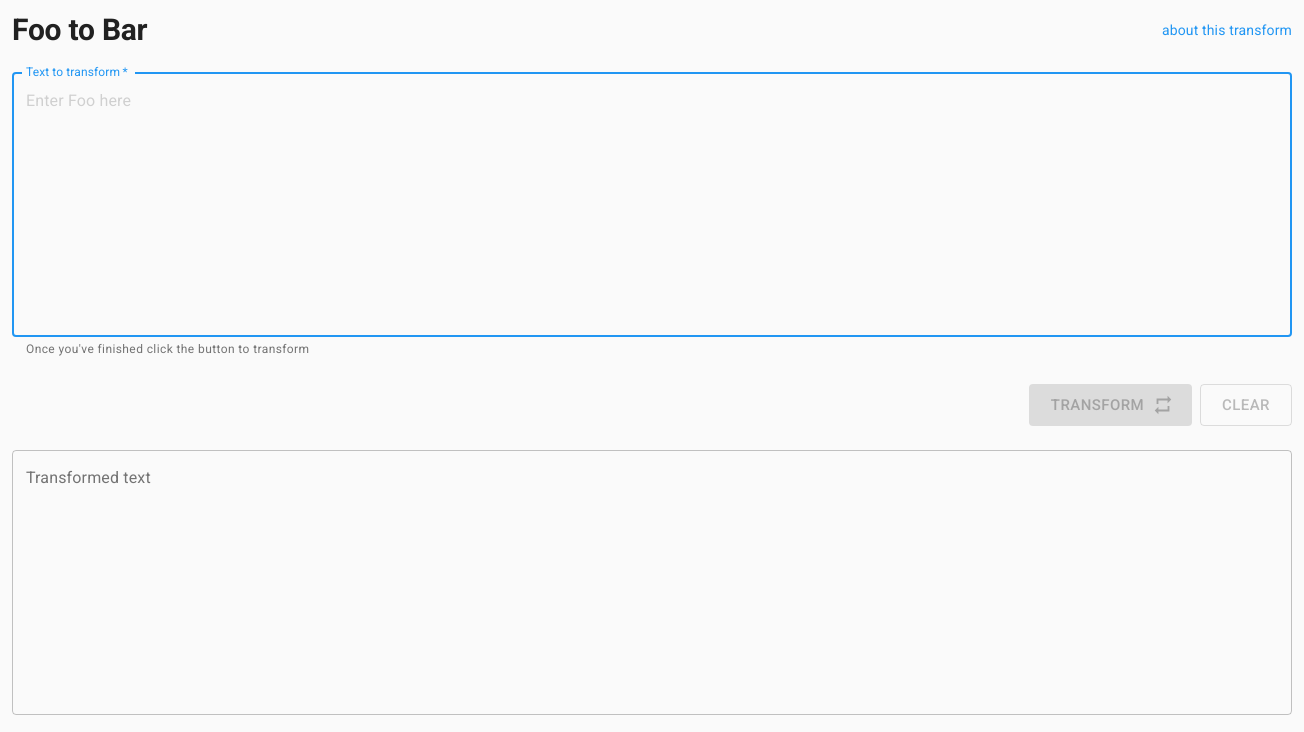
Scenario: Transform › after the user has entered text in the input box › when the transform will fail › when the transform button is clicked › after the transform fails with boom › when the clear button is clicked › resets the input box to empty
This screenshot has width=1304, height=732.
Type "stuff" into the text box labelled "Text to transform *" at (652, 204), box x1=26 y1=90 x2=1278 y2=318
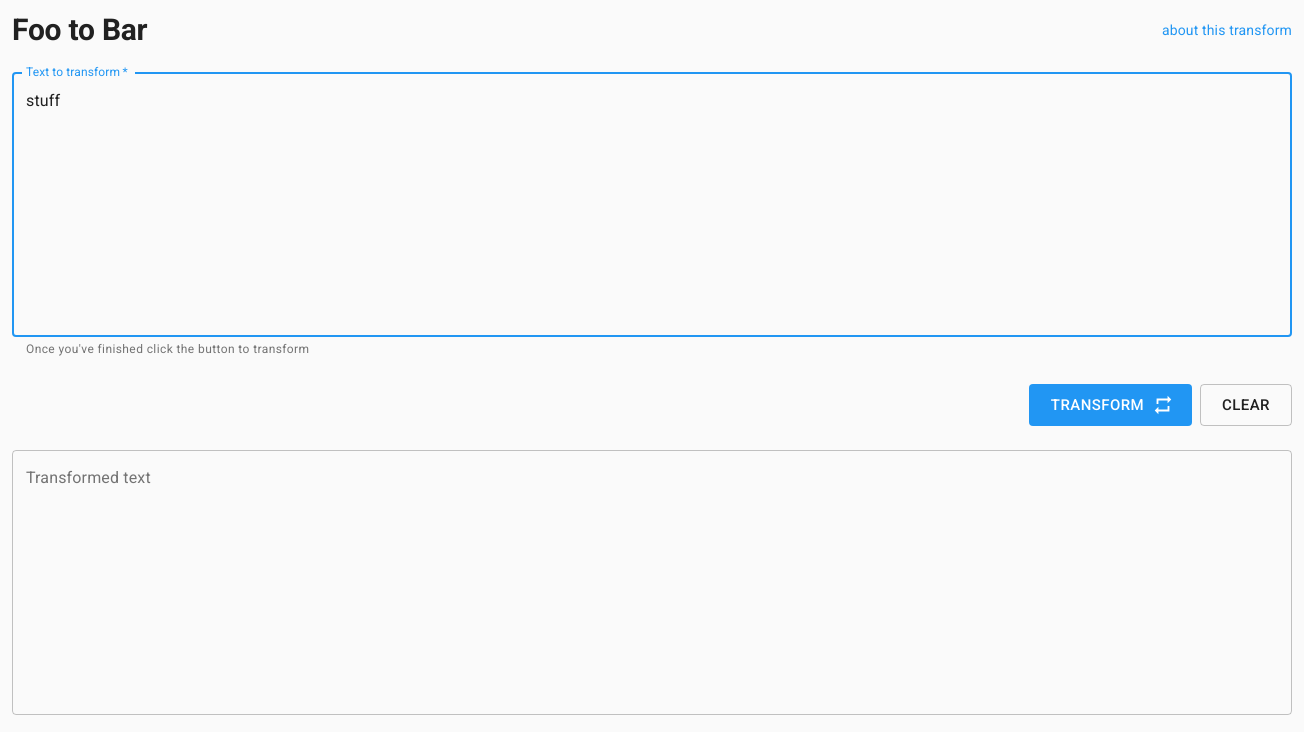
Click the button "Transform" at (1110, 405), box x1=1029 y1=384 x2=1192 y2=426
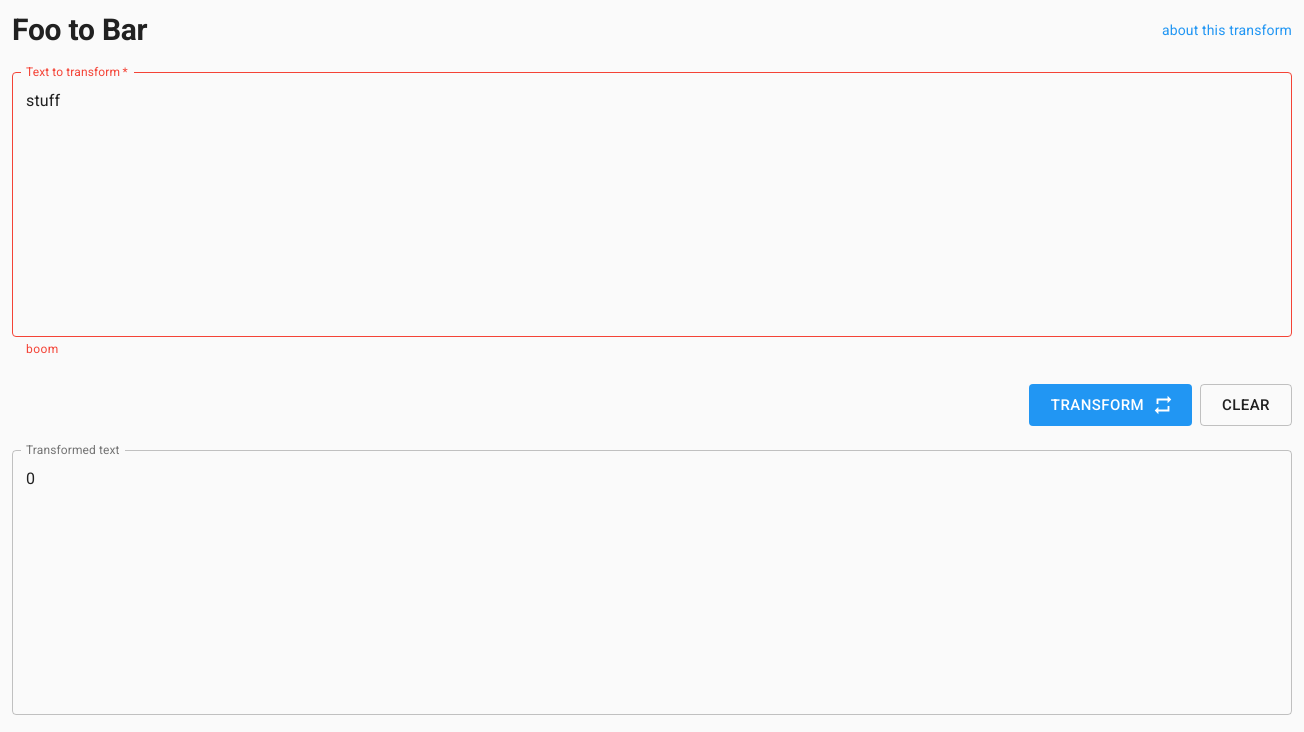
Click the button "Clear" at (1246, 405), box x1=1200 y1=384 x2=1292 y2=426
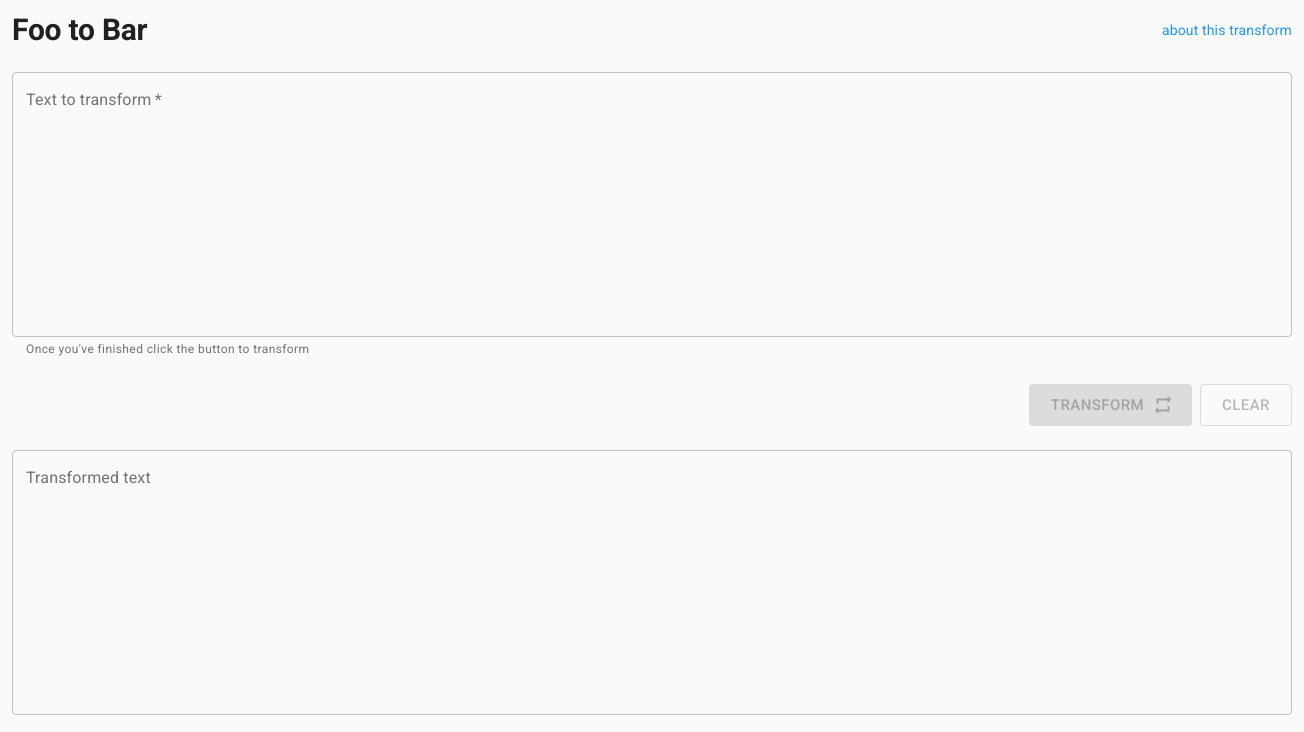
Now the text box labelled "Text to transform *" is empty, box x1=26 y1=90 x2=1278 y2=318
